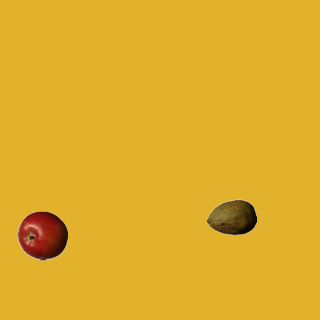Apple Braeburn: (17, 210, 67, 260)
Papaya: (206, 192, 256, 242)
